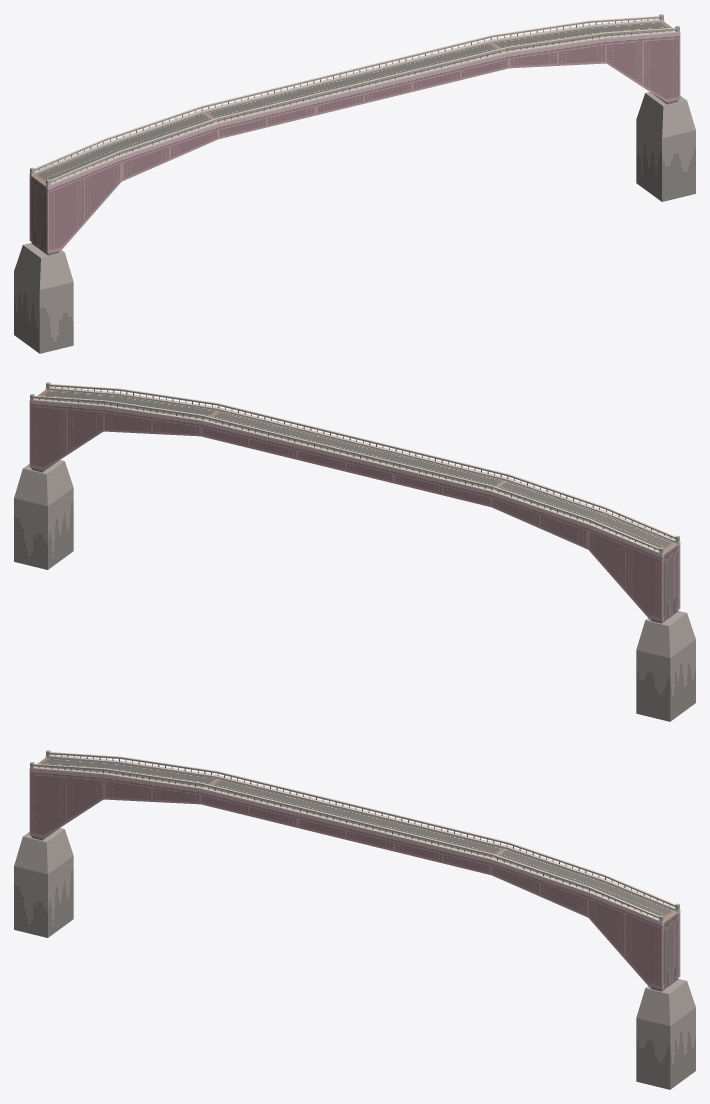
Rendered from 02cc_Railroad_Bridge.glb.
3 renders of one model, top to bottom at view 1: azimuth 30°, elevation 25°; view 2: azimuth 150°, elevation 25°; view 3: azimuth 330°, elevation 25°, orthographic.
Visible parts, largest first — view 1: part_0; view 2: part_0; view 3: part_0.
Part boxes in pixels (bbox=[...]): part_0: bbox=[14, 14, 695, 353]; part_0: bbox=[14, 382, 695, 721]; part_0: bbox=[14, 750, 695, 1089].
Size of the model in its own units: 271 by 73.97 by 18.46.
1 material, 1 textured.
